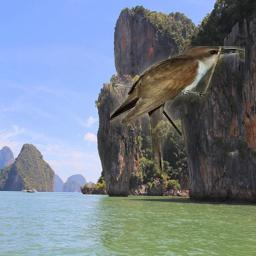Cuckoo: (110, 46, 245, 176)
